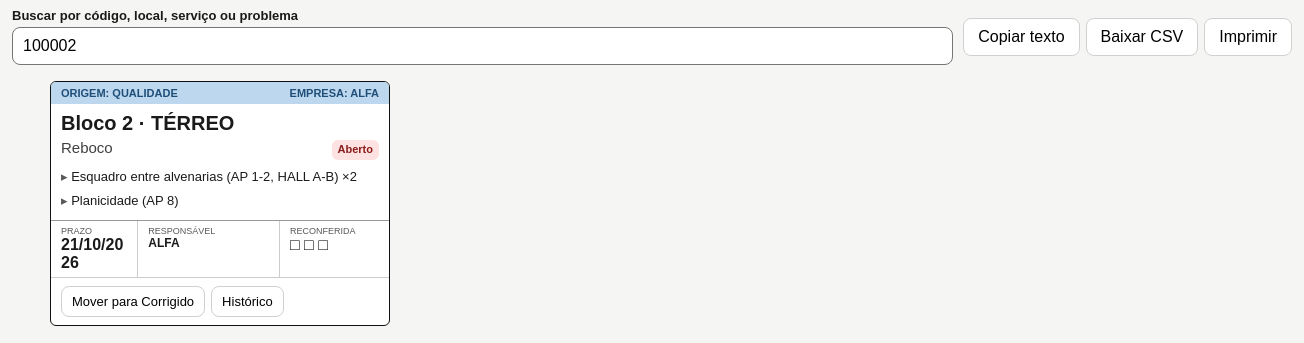
Test case: <Cards/> › exporta só o que está na busca
Click the button "Copiar texto": x=1021, y=36 [963,18,1080,56]
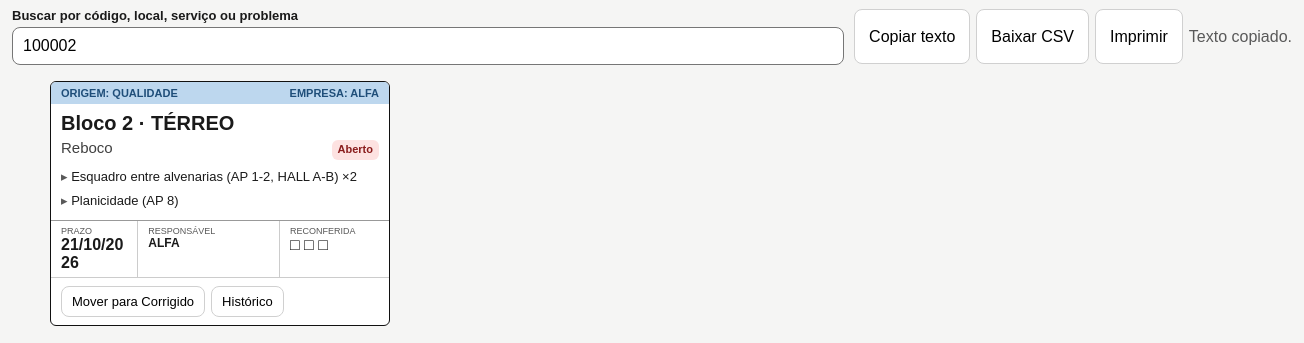
Now the text "Texto copiado." is shown, box [1189,25,1292,48]
